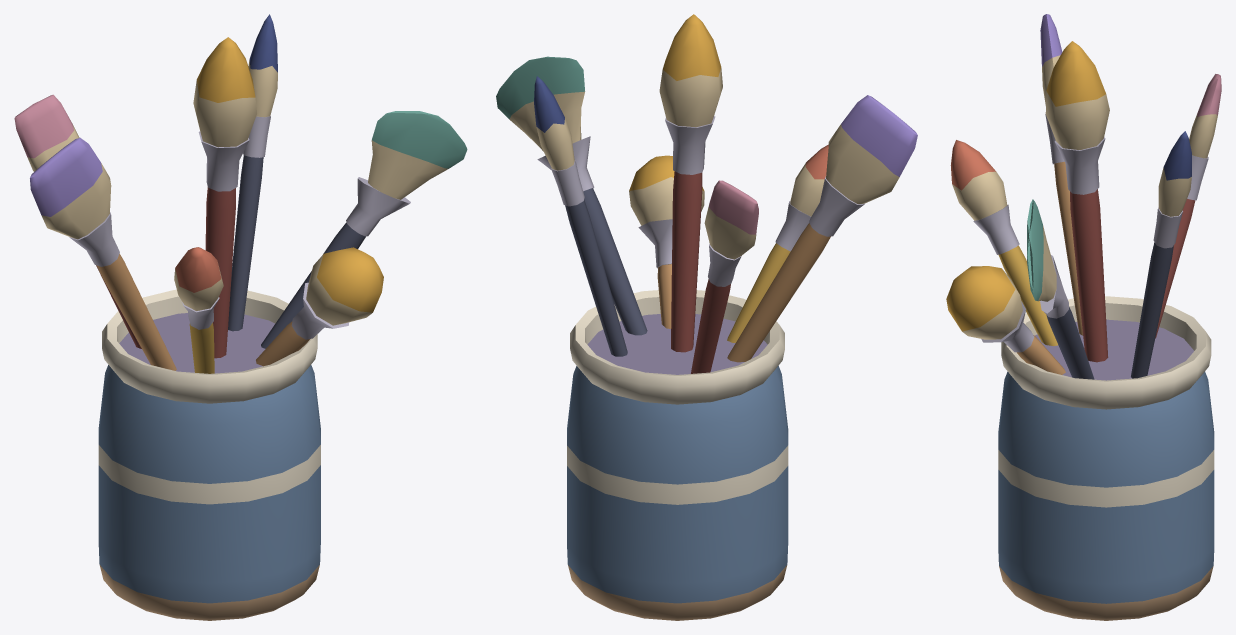
Rendered from lm_brush_jar.glb.
The picture shows the model from 3 angles, left to right: view 1: azimuth 30°, elevation 25°; view 2: azimuth 150°, elevation 25°; view 3: azimuth 270°, elevation 25°; orthographic projection. The views are drawn at different scales.
Visible parts, largest first — view 1: LandmarkBrushJarMesh; view 2: LandmarkBrushJarMesh; view 3: LandmarkBrushJarMesh.
Boxes of the visible parts, x1,y1,x2,y2 form: LandmarkBrushJarMesh: (14,14,467,620); LandmarkBrushJarMesh: (496,14,917,620); LandmarkBrushJarMesh: (946,14,1221,620).
Size of the model in its own units: 30.86 by 38 by 17.56.
